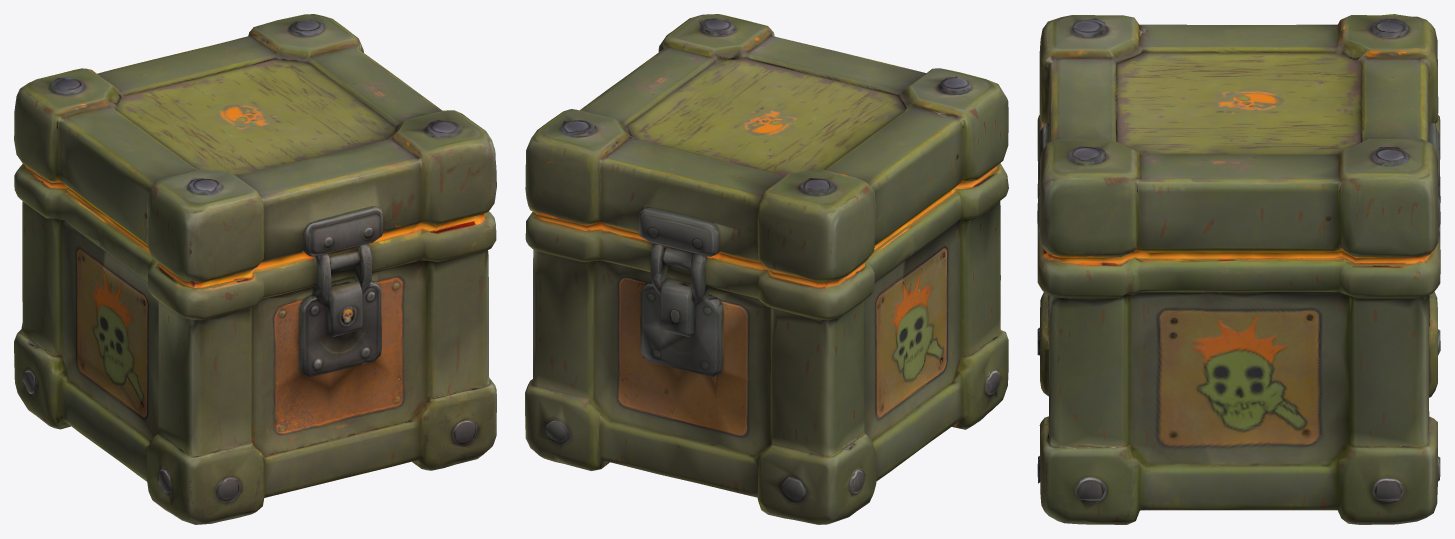
File: Mystery_Box_0404141340_texture.glb
3 renders of one model, left to right at view 1: azimuth 30°, elevation 25°; view 2: azimuth 150°, elevation 25°; view 3: azimuth 270°, elevation 25°, orthographic. The views are drawn at different scales.
Size of the model in its own units: 2 by 1.96 by 2.
Materials: 1 (1 with a texture image).
